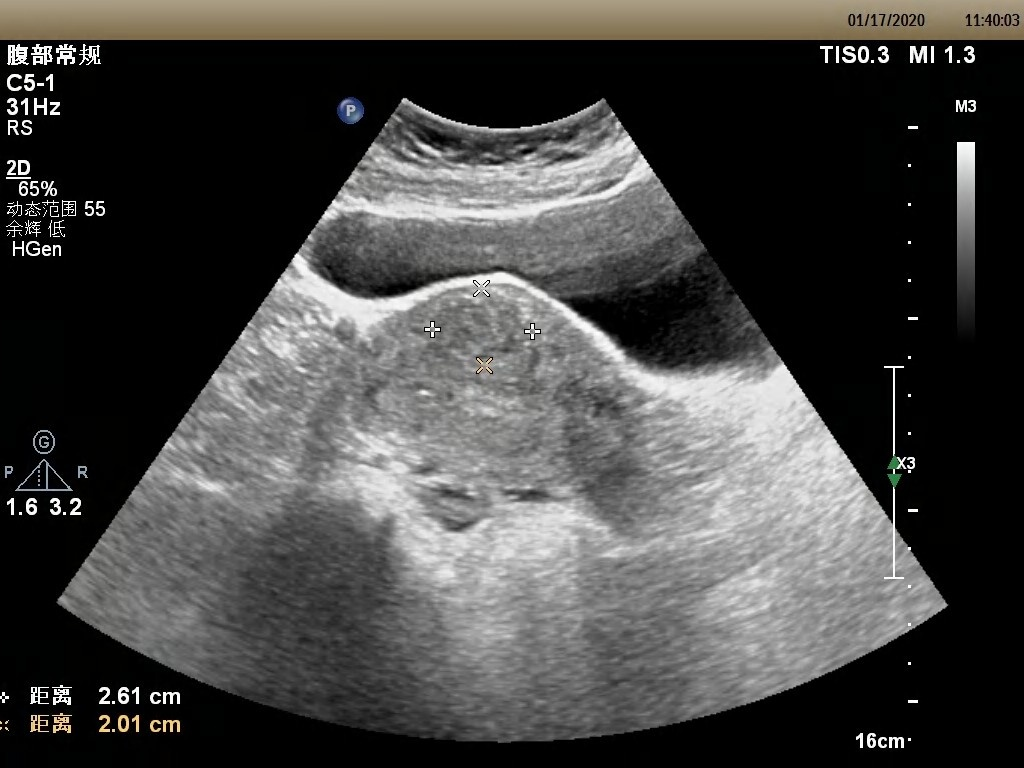肌瘤: (428, 286, 533, 361)
